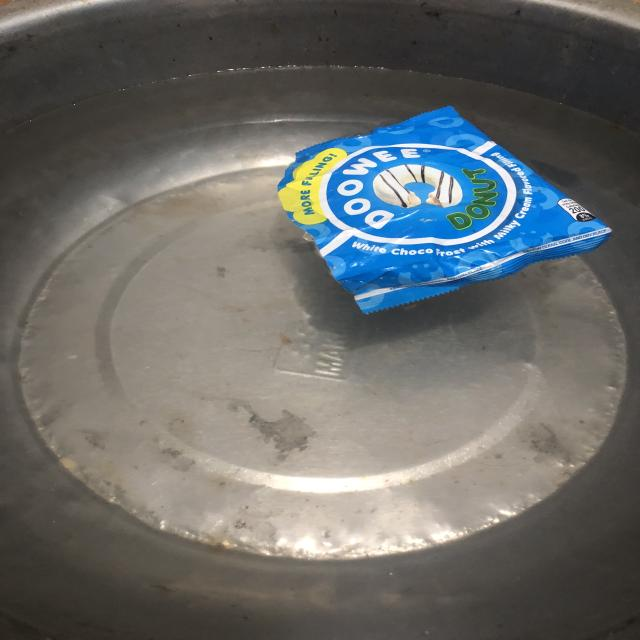Plastic Wrapper: (277, 107, 611, 313)
